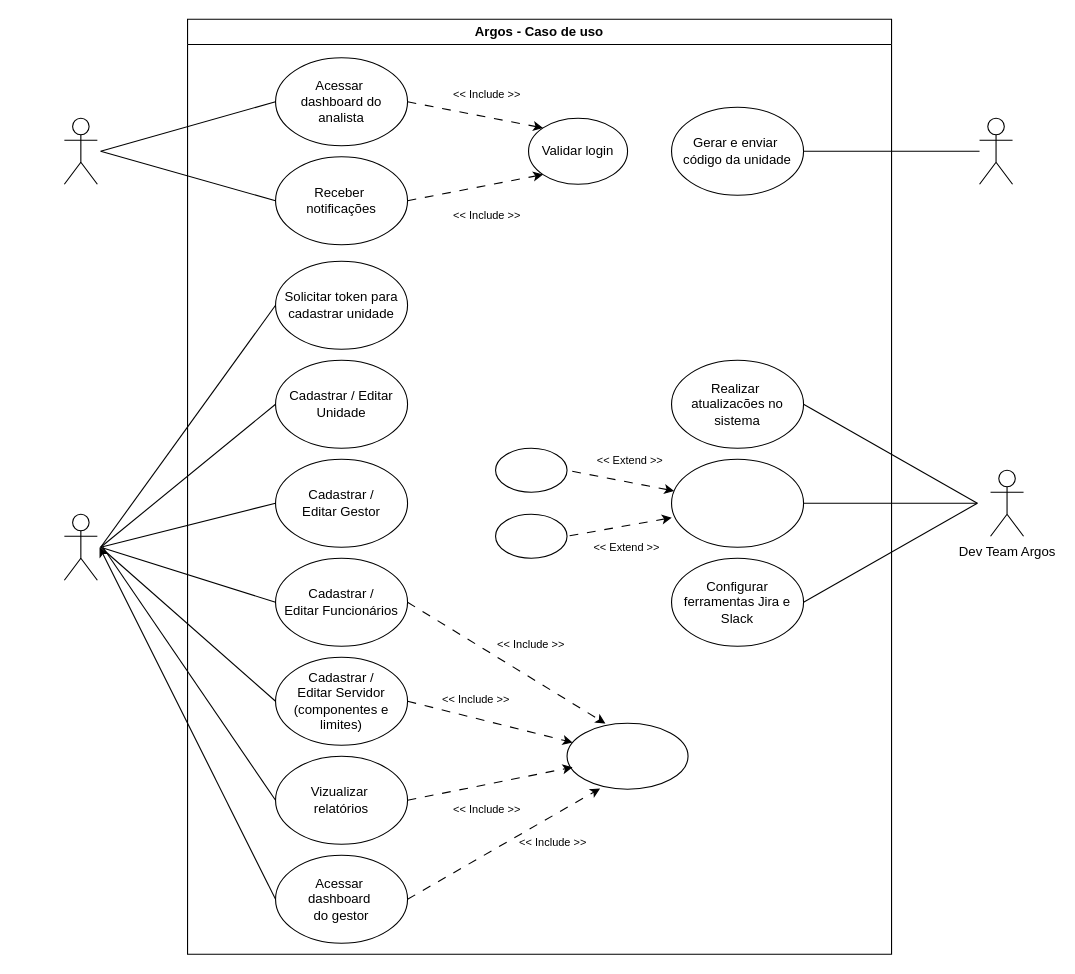
Image size: 1075x974. Some labels were removed from this diagram. The centre of each missing label's shape, as x and y in pixels:
"Analista de suporte" goes at (x=80, y=150).
"Configurar serviços na AWS" goes at (x=737, y=502).
"EC2" goes at (x=530, y=469).
"Gestor de operações" goes at (x=80, y=546).
"S3" goes at (x=530, y=535).
"Suporte Argos" goes at (x=995, y=150).
"Validar login do gestor" goes at (x=627, y=755).
